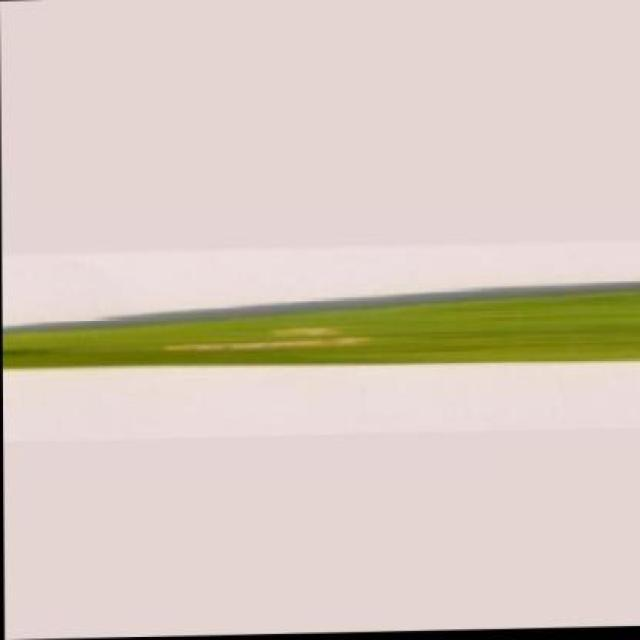Brown_Spot: (1, 279, 640, 378)
